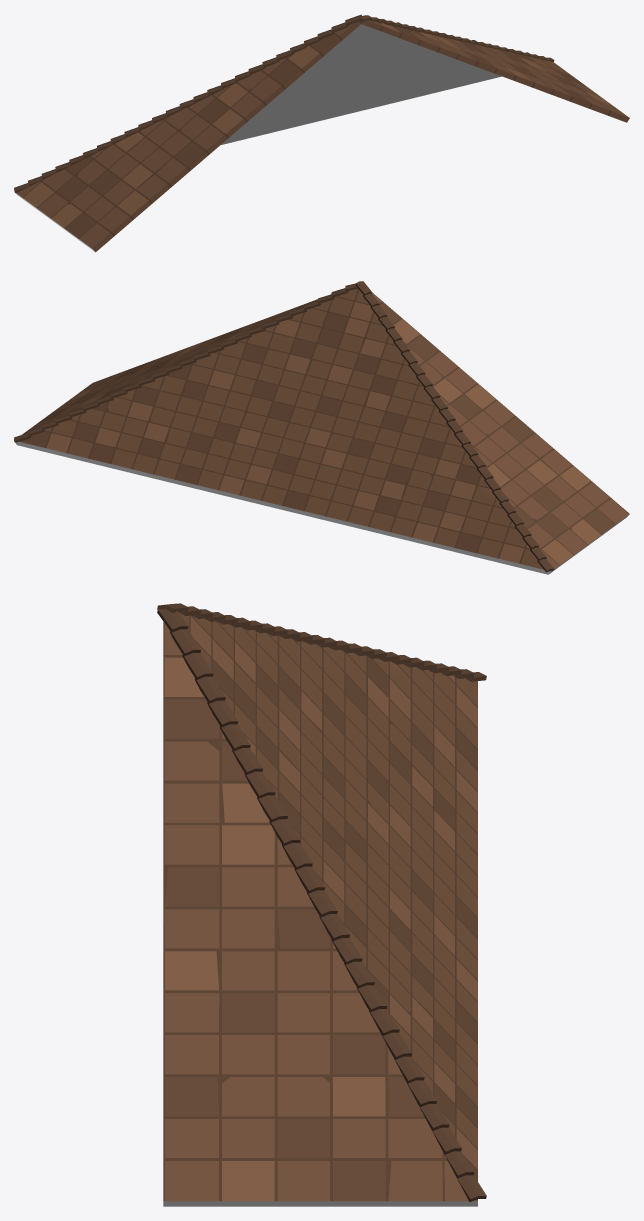
Rendered from Roof4_C9_02.fbx.
3 renders of one model, top to bottom at view 1: azimuth 30°, elevation 25°; view 2: azimuth 150°, elevation 25°; view 3: azimuth 270°, elevation 25°, orthographic. The views are drawn at different scales.
Visible parts, largest first — view 1: Roof4_C9_02; view 2: Roof4_C9_02; view 3: Roof4_C9_02.
Boxes of the visible parts, x1,y1,x2,y2 form: Roof4_C9_02: [14, 14, 629, 252]; Roof4_C9_02: [14, 281, 629, 574]; Roof4_C9_02: [157, 603, 486, 1206].
Bounding box in the file's own units: 11.1 × 3.37 × 2.94.
